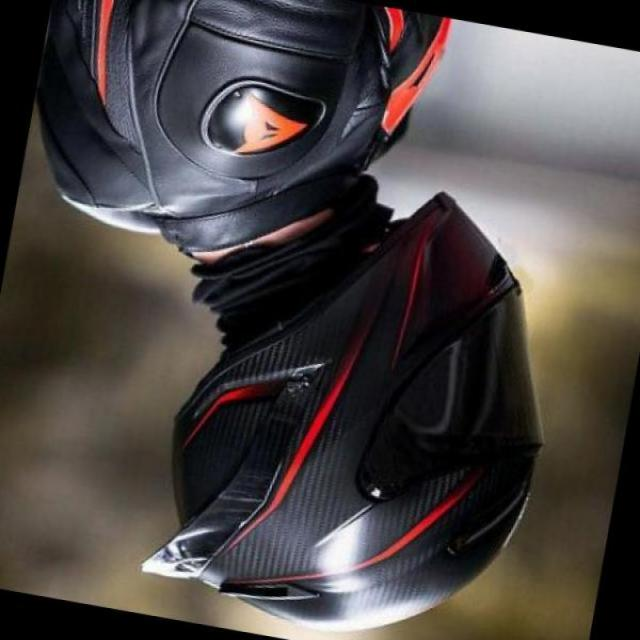Helmet: (155, 230, 572, 625)
